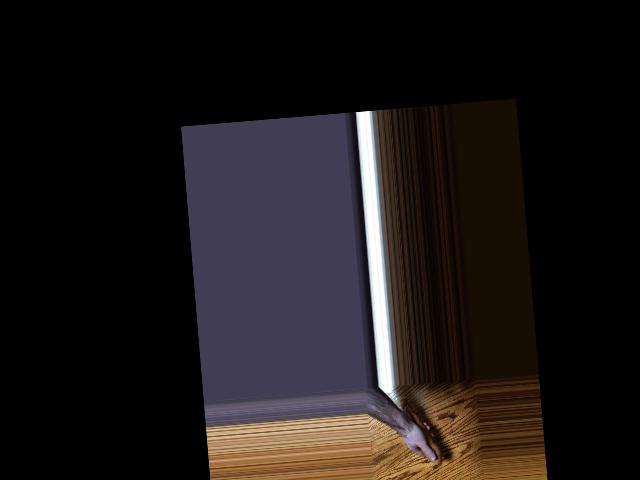sweet_potato: (397, 390, 444, 468)
